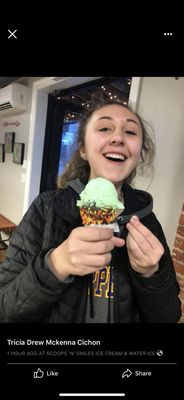soup: (76, 177, 125, 226)
